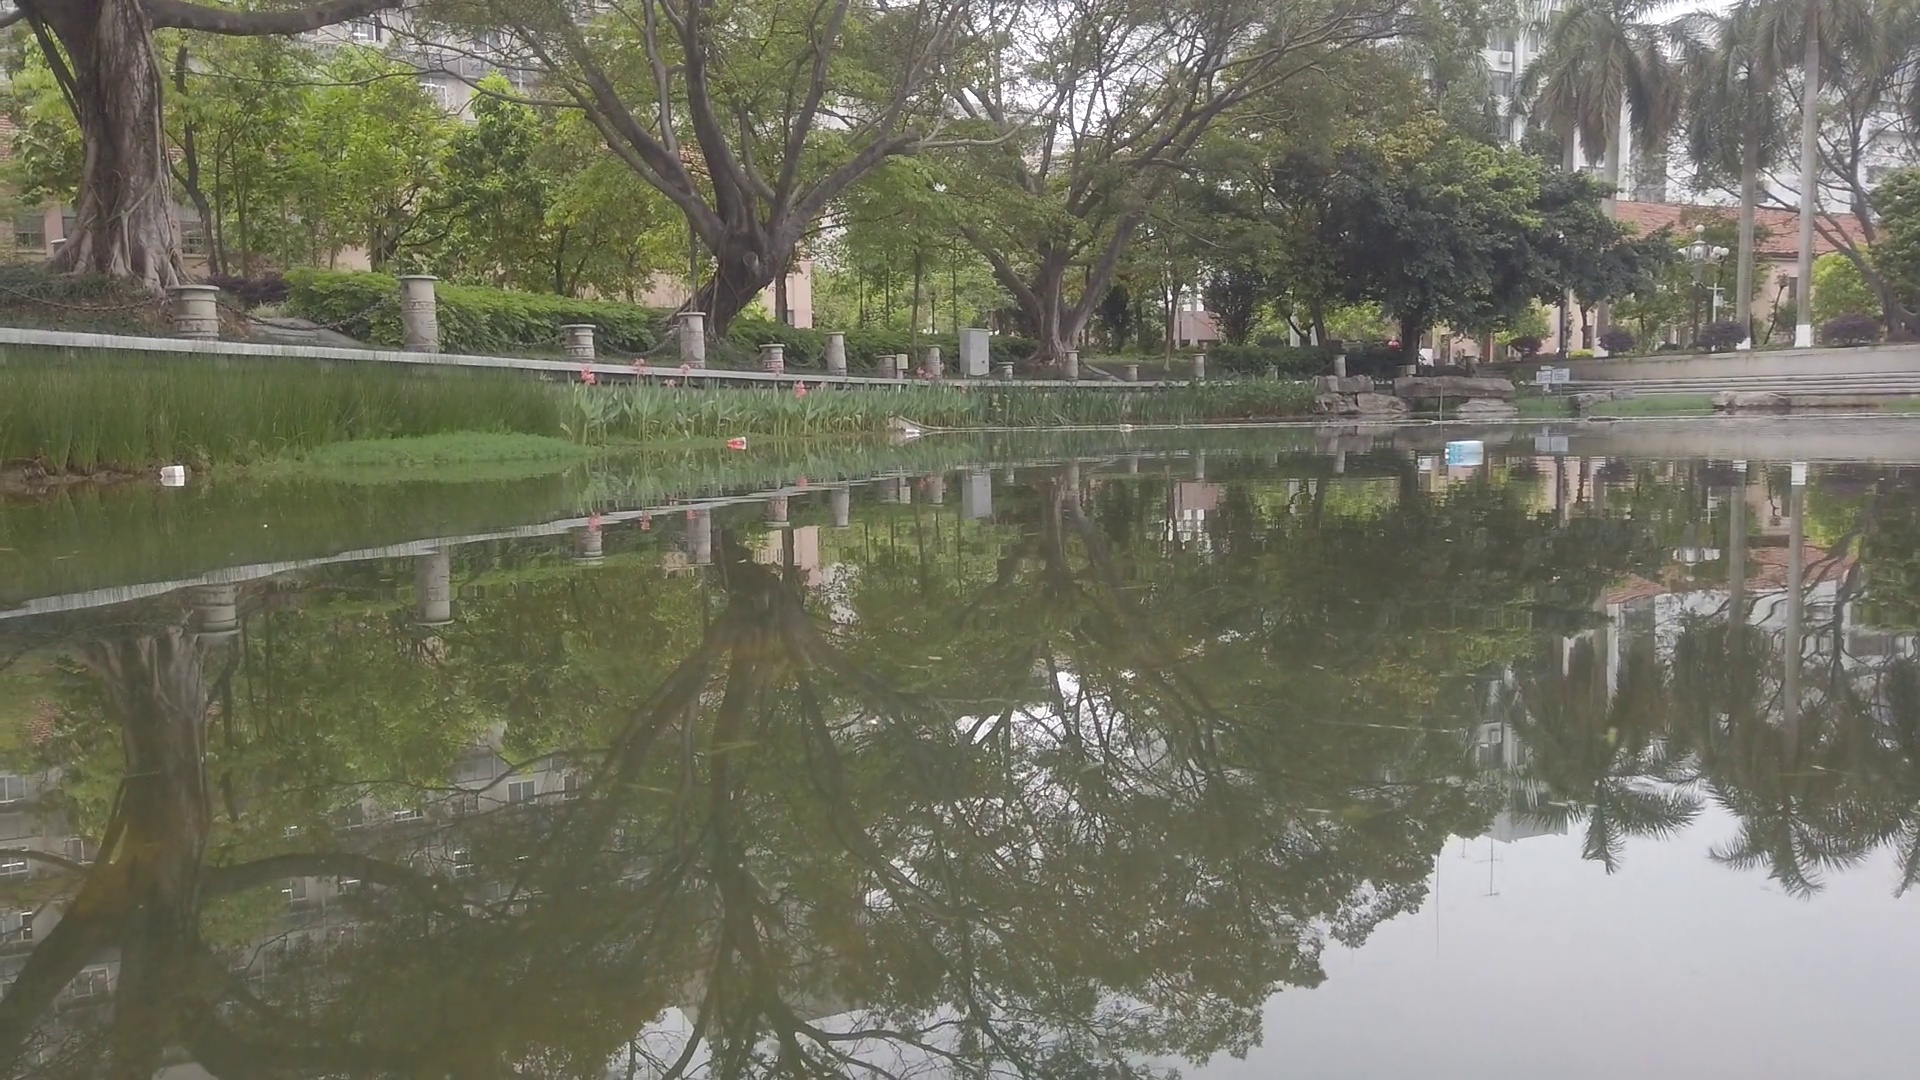bottle: (729, 436, 746, 447), (1122, 425, 1134, 433), (902, 429, 919, 434)
carton: (1443, 440, 1484, 465), (161, 464, 185, 479)
